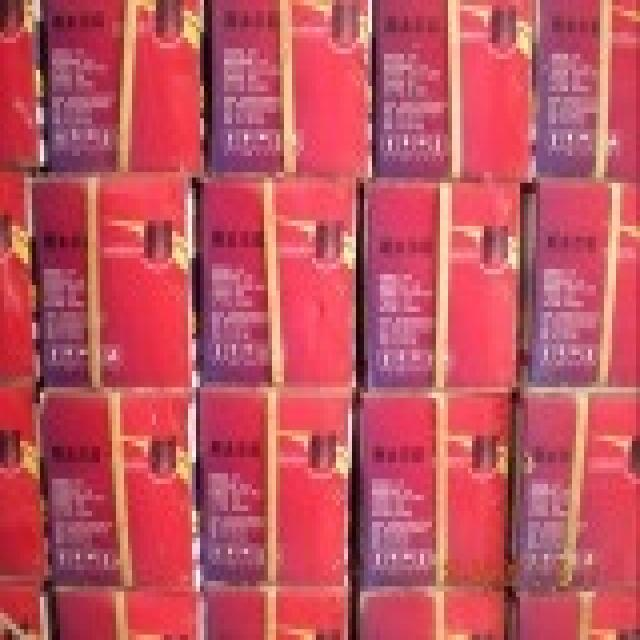box: (32, 167, 200, 387), (356, 177, 524, 393), (196, 172, 360, 387), (40, 382, 204, 592), (352, 387, 516, 586), (196, 387, 356, 581), (208, 0, 376, 177), (376, 0, 532, 183), (504, 387, 640, 592), (48, 0, 208, 172), (516, 177, 640, 387), (532, 0, 640, 177), (0, 382, 52, 581), (204, 581, 352, 640), (0, 167, 40, 382), (52, 586, 208, 640), (504, 581, 640, 640), (356, 586, 504, 640), (0, 581, 56, 640)
